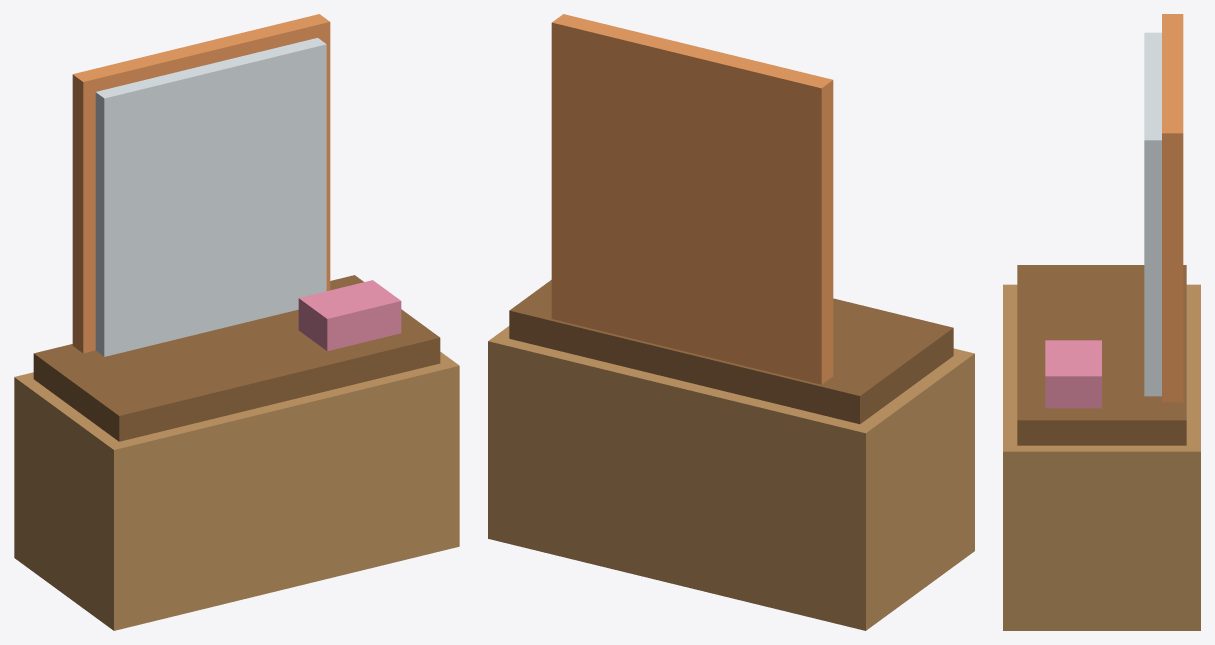
The model's file is vanity.glb.
The picture shows the model from 3 angles, left to right: view 1: azimuth 30°, elevation 25°; view 2: azimuth 150°, elevation 25°; view 3: azimuth 270°, elevation 25°; orthographic projection. The views are drawn at different scales.
Visible parts, largest first — view 1: vanity; view 2: vanity; view 3: vanity.
Part boxes in pixels (x1,y1,x2,y2): vanity: (14, 14, 459, 630); vanity: (488, 14, 974, 630); vanity: (1003, 14, 1200, 630).
Bounding box in the file's own units: 28 × 37 × 14.
